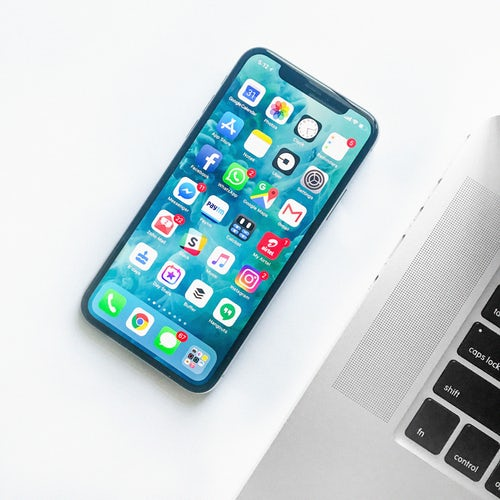phone: (76, 45, 379, 402)
